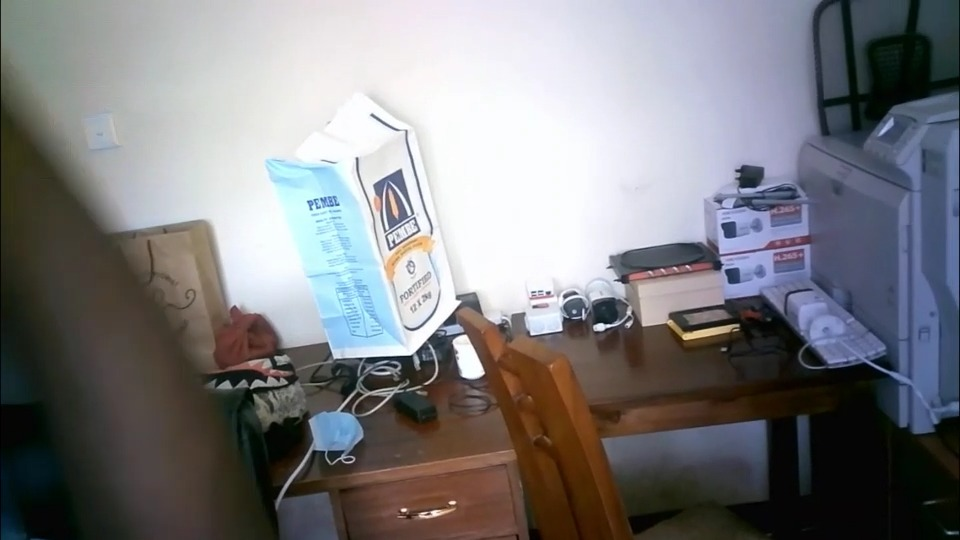wheat_flour_blue_label: (265, 89, 458, 355)
